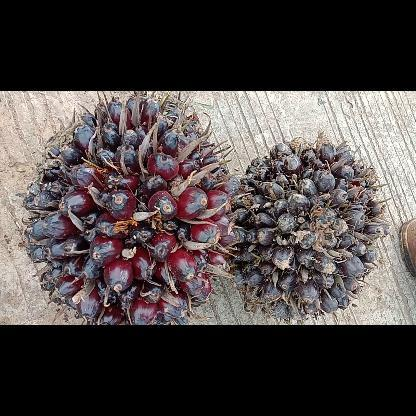TBS mentah: (21, 94, 238, 324), (228, 133, 390, 323)
